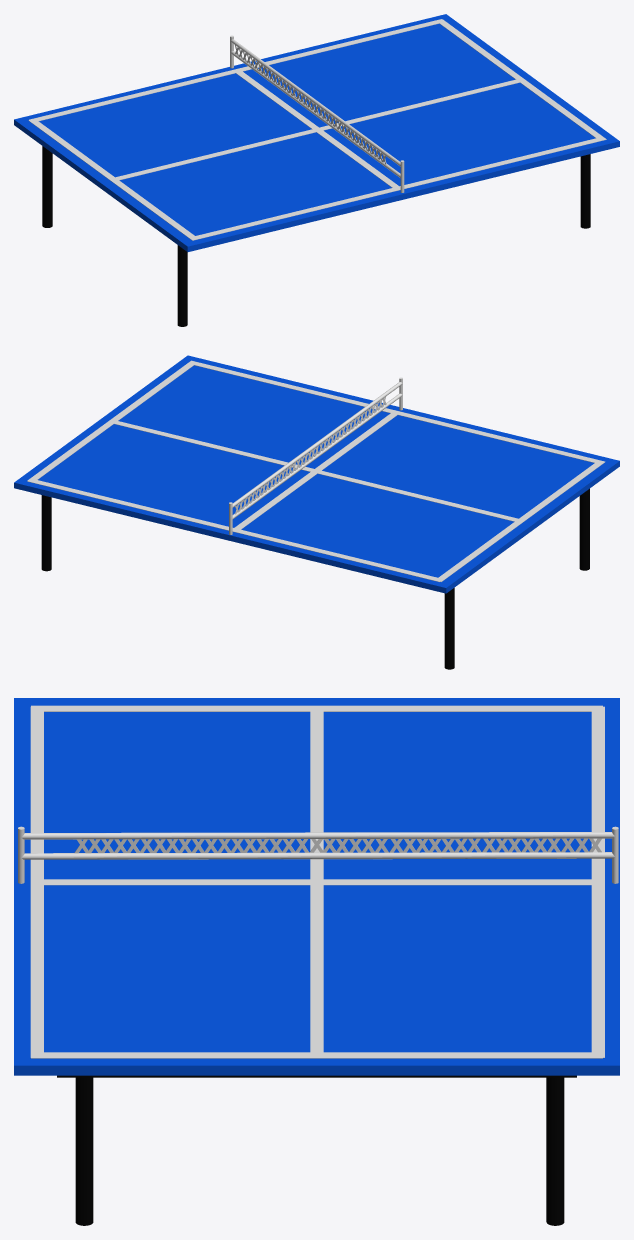
The model's file is Tabla.fbx.
3 renders of one model, top to bottom at view 1: azimuth 30°, elevation 25°; view 2: azimuth 150°, elevation 25°; view 3: azimuth 270°, elevation 25°, orthographic. The views are drawn at different scales.
Parts seen in each view (by area): view 1: Cube.001, Cube.004, Cube.002, Cube.005, Cube.007, Cube.003, Cube.006, Cylinder.006, Cylinder.002, Cylinder.003, Cylinder.001, Cylinder.007; view 2: Cube.001, Cube.004, Cube.005, Cube.002, Cube.007, Cube.006, Cube.003, Cylinder.006, Cylinder.003, Cylinder.002, Cylinder, Cylinder.007; view 3: Cube.001, Cube.004, Cube.002, Cube.005, Cylinder.006, Cylinder.007, Cube.007, Cube.003, Cube.006, Cylinder, Cylinder.001, Cube.
Boxes of the visible parts, x1=… form: Cube.001: x1=14, y1=14, x2=619, y2=251; Cube.004: x1=29, y1=19, x2=444, y2=122; Cube.002: x1=191, y1=138, x2=605, y2=240; Cube.005: x1=110, y1=79, x2=519, y2=181; Cube.007: x1=439, y1=19, x2=606, y2=140; Cube.003: x1=236, y1=71, x2=400, y2=190; Cube.006: x1=28, y1=120, x2=198, y2=240; Cylinder.006: x1=230, y1=39, x2=400, y2=166; Cylinder.002: x1=177, y1=245, x2=187, y2=326; Cylinder.003: x1=42, y1=146, x2=52, y2=227; Cylinder.001: x1=580, y1=154, x2=590, y2=228; Cylinder.007: x1=230, y1=51, x2=400, y2=177; Cube.001: x1=14, y1=355, x2=619, y2=593; Cube.004: x1=27, y1=478, x2=443, y2=582; Cube.005: x1=114, y1=421, x2=523, y2=522; Cube.002: x1=194, y1=362, x2=598, y2=462; Cube.007: x1=27, y1=360, x2=197, y2=480; Cube.006: x1=438, y1=460, x2=605, y2=581; Cube.003: x1=234, y1=410, x2=400, y2=529; Cylinder.006: x1=232, y1=382, x2=402, y2=507; Cylinder.003: x1=444, y1=588, x2=454, y2=669; Cylinder.002: x1=579, y1=488, x2=589, y2=570; Cylinder: x1=41, y1=495, x2=51, y2=571; Cylinder.007: x1=232, y1=393, x2=402, y2=519; Cube.001: x1=14, y1=698, x2=619, y2=1075; Cube.004: x1=591, y1=706, x2=604, y2=1057; Cube.002: x1=30, y1=707, x2=43, y2=1057; Cube.005: x1=310, y1=706, x2=323, y2=1052; Cylinder.006: x1=21, y1=832, x2=614, y2=839; Cylinder.007: x1=21, y1=852, x2=614, y2=859; Cube.007: x1=31, y1=1052, x2=602, y2=1058; Cube.003: x1=31, y1=879, x2=591, y2=885; Cube.006: x1=31, y1=705, x2=602, y2=711; Cylinder: x1=546, y1=1077, x2=564, y2=1225; Cylinder.001: x1=75, y1=1077, x2=93, y2=1225; Cube: x1=57, y1=1075, x2=576, y2=1077.
Bounding box in the file's own units: 7286 × 2058 × 5076.
